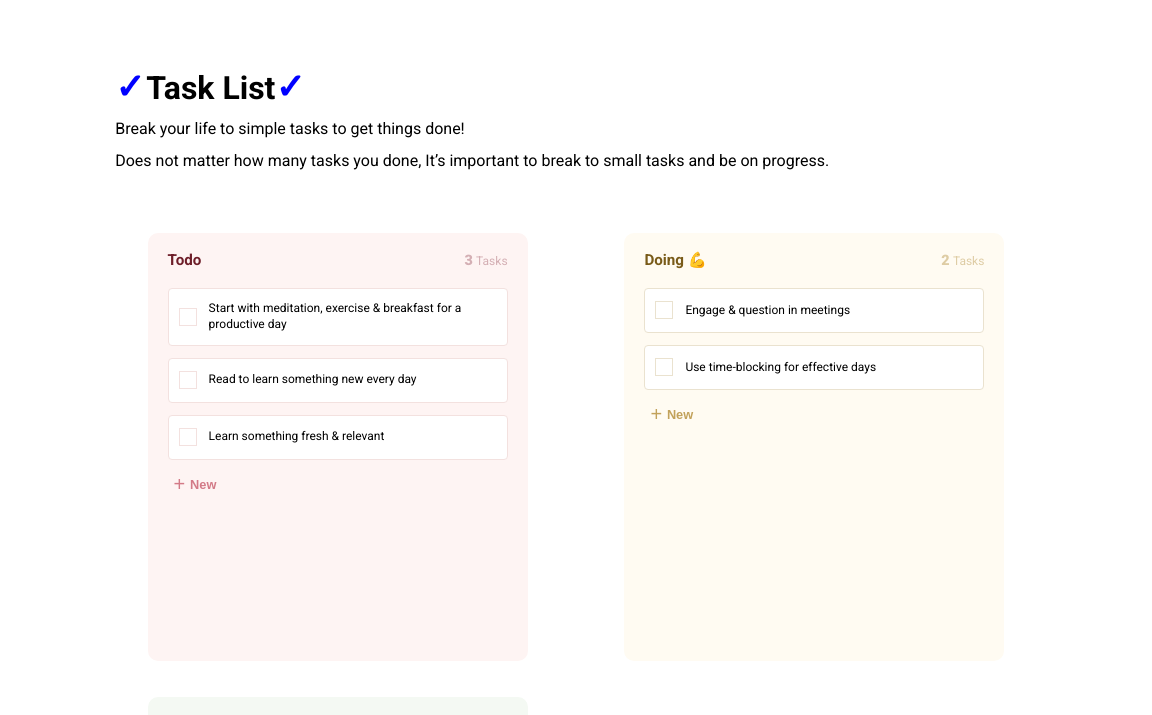
user can add task › Add Todo Task
This screenshot has width=1152, height=715.
Click the button "+ New" below "Todo": (196, 485) [168,472,223,497]
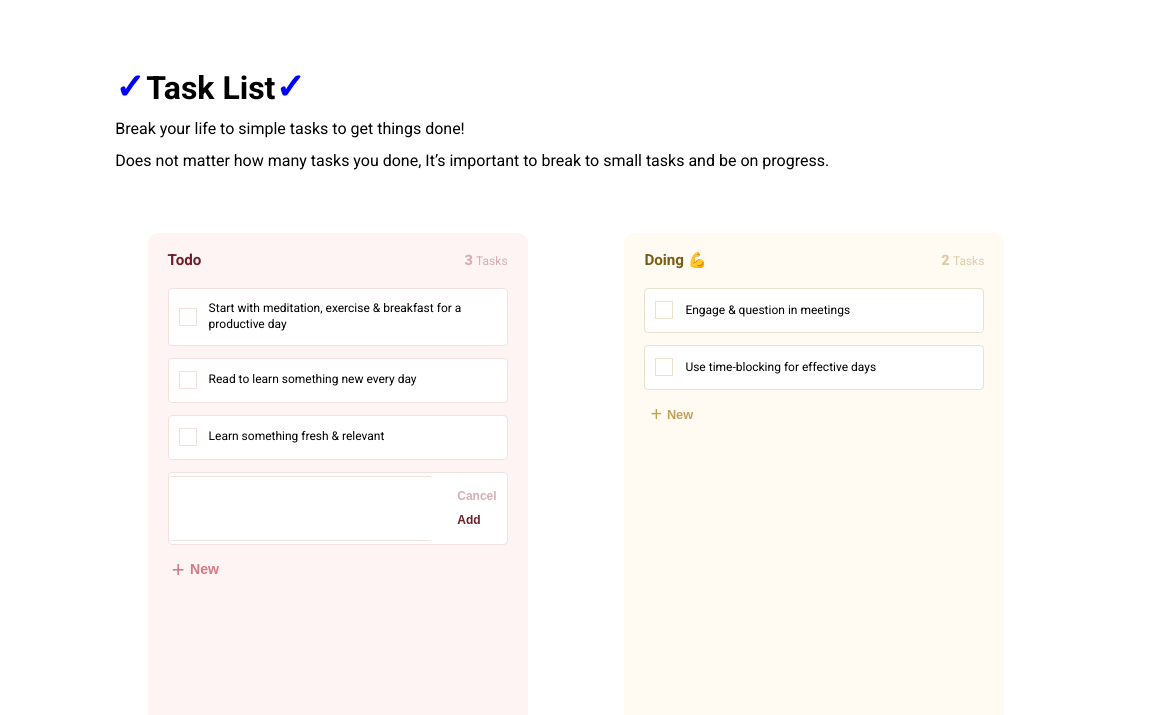
Click the button "Cancel": (477, 497) [457,485,496,509]
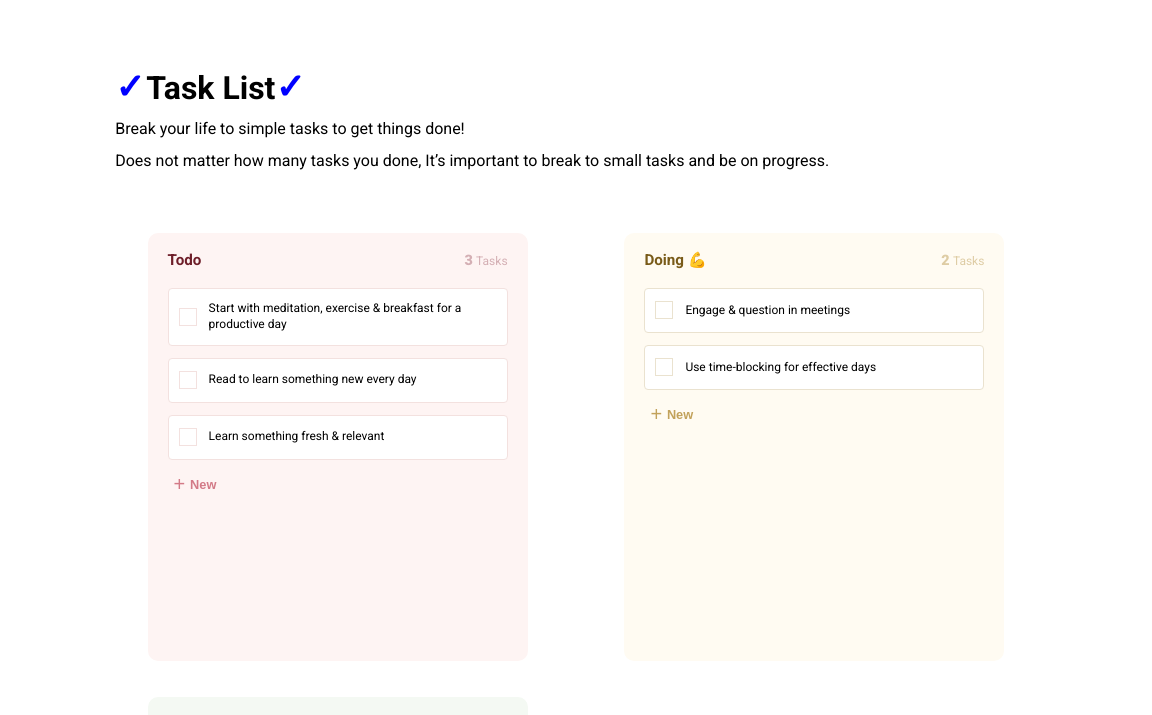
Click the button "+ New" below "Todo": (196, 485) [168,472,223,497]
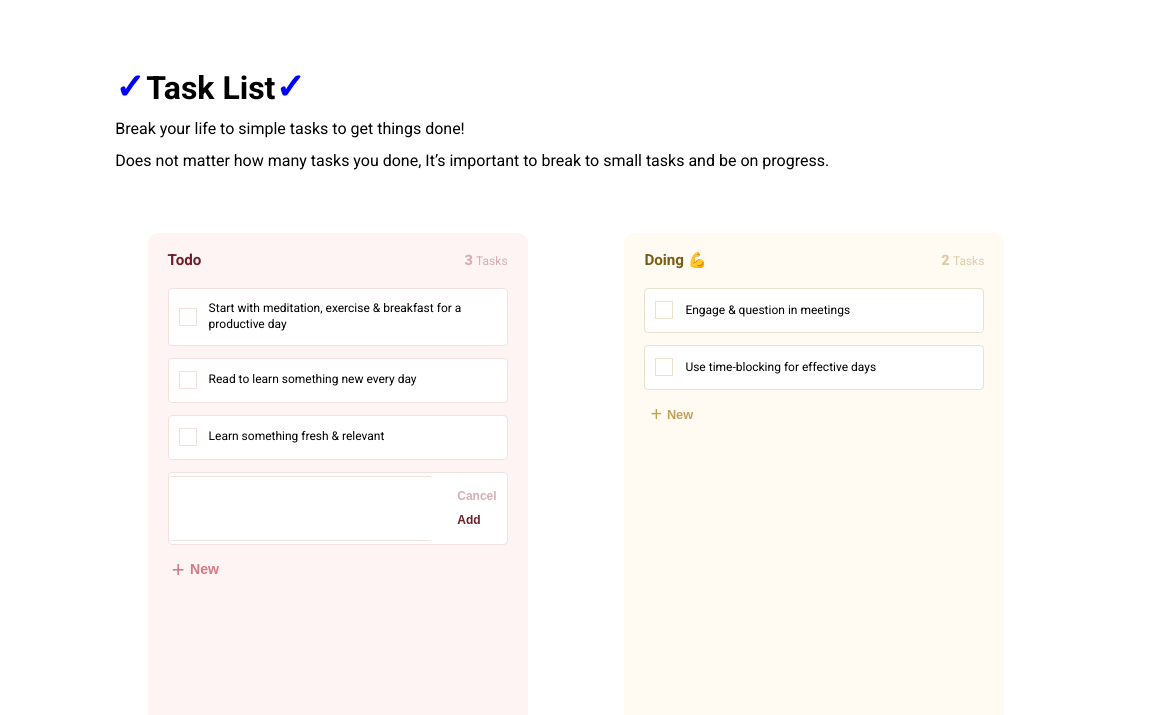
In the text box named "newTask": (301, 509) [169,476,432,541], type "Add Todo Task"
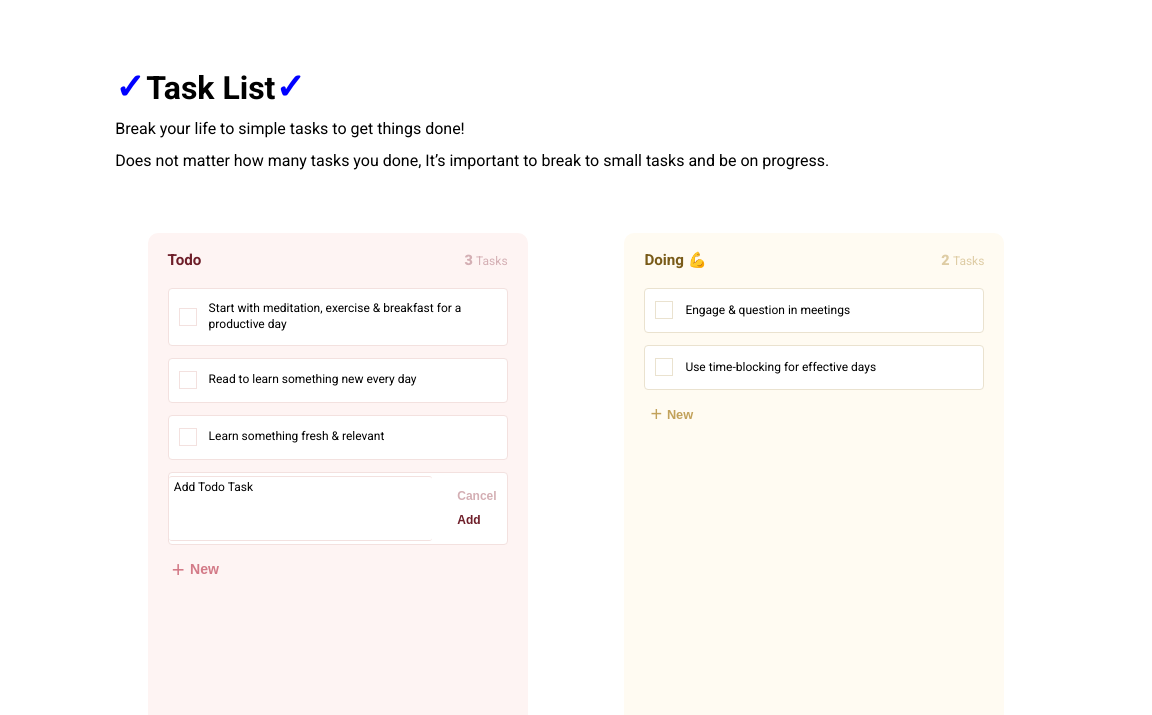
Click the button "Add": (469, 520) [457,508,480,532]
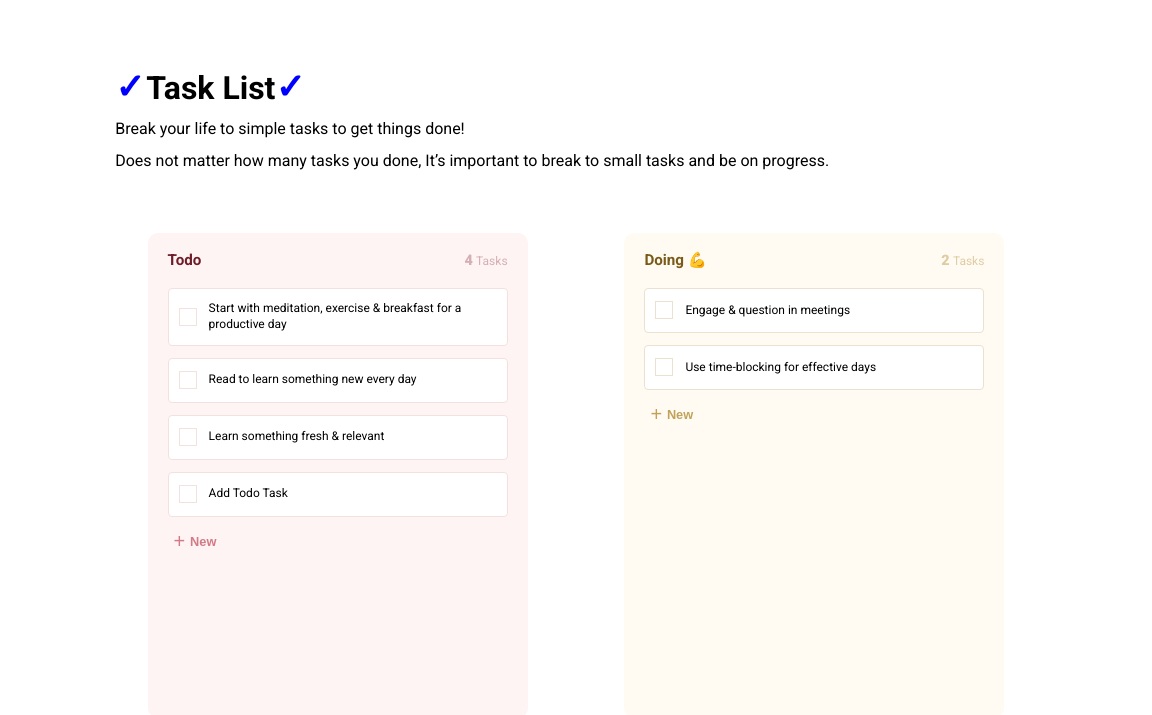
Expected: the text "Add Todo Task" is shown, [209,486,288,502]
